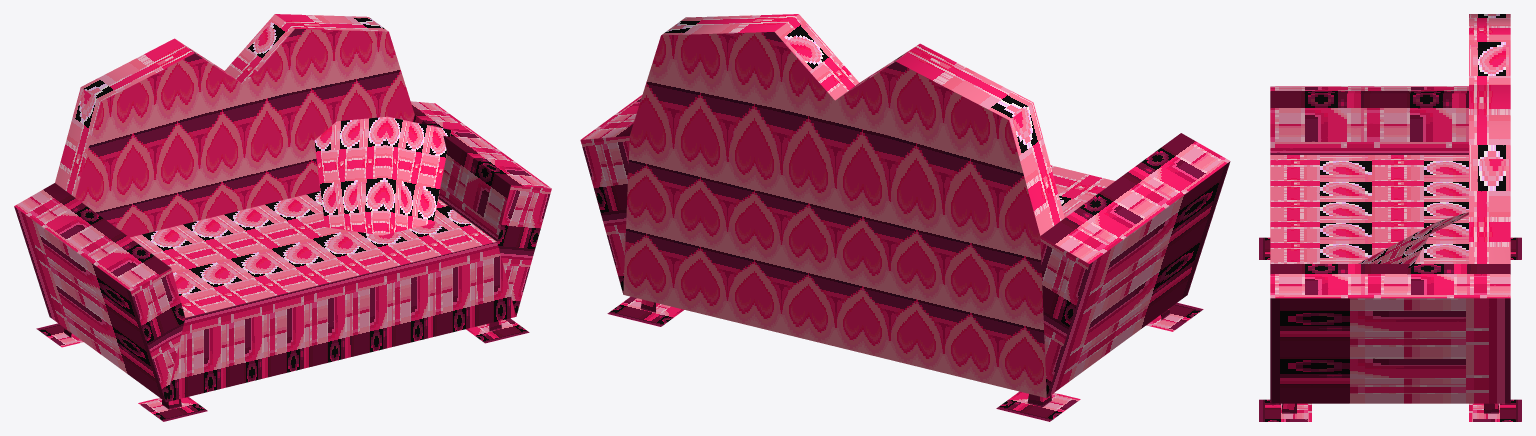
The model's file is 3820kg3_ser01.gltf.
The picture shows the model from 3 angles, left to right: view 1: azimuth 30°, elevation 25°; view 2: azimuth 150°, elevation 25°; view 3: azimuth 270°, elevation 25°; orthographic projection. The views are drawn at different scales.
Parts seen in each view (by area): view 1: 3820kg3_ser01; view 2: 3820kg3_ser01; view 3: 3820kg3_ser01.
Part boxes in pixels (x1,y1,x2,y2): 3820kg3_ser01: [14, 14, 551, 421]; 3820kg3_ser01: [580, 14, 1230, 421]; 3820kg3_ser01: [1259, 14, 1521, 421].
Bounding box in the file's own units: 1.92 × 1.15 × 1.01.
3 materials, 3 textured.
